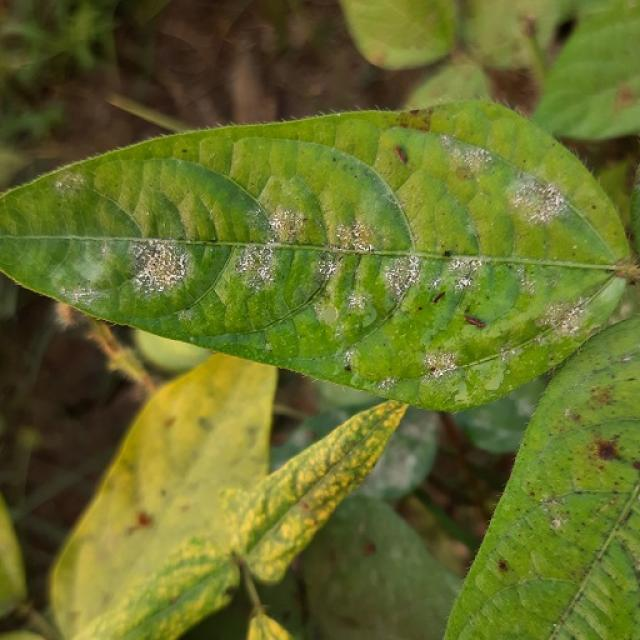Blackgram: (0, 102, 629, 409)
Powdery_Mildew: (246, 217, 517, 320), (374, 245, 489, 314), (310, 215, 393, 309), (128, 241, 202, 318), (132, 241, 190, 293), (513, 179, 567, 226), (233, 243, 280, 283), (331, 217, 384, 252), (538, 295, 585, 334), (381, 256, 420, 298), (268, 206, 310, 241), (449, 143, 492, 176), (442, 257, 481, 289), (423, 349, 460, 375), (55, 171, 85, 193), (345, 289, 369, 313), (316, 257, 337, 279), (318, 305, 339, 325), (69, 287, 91, 303), (343, 348, 357, 366), (549, 515, 565, 530)
